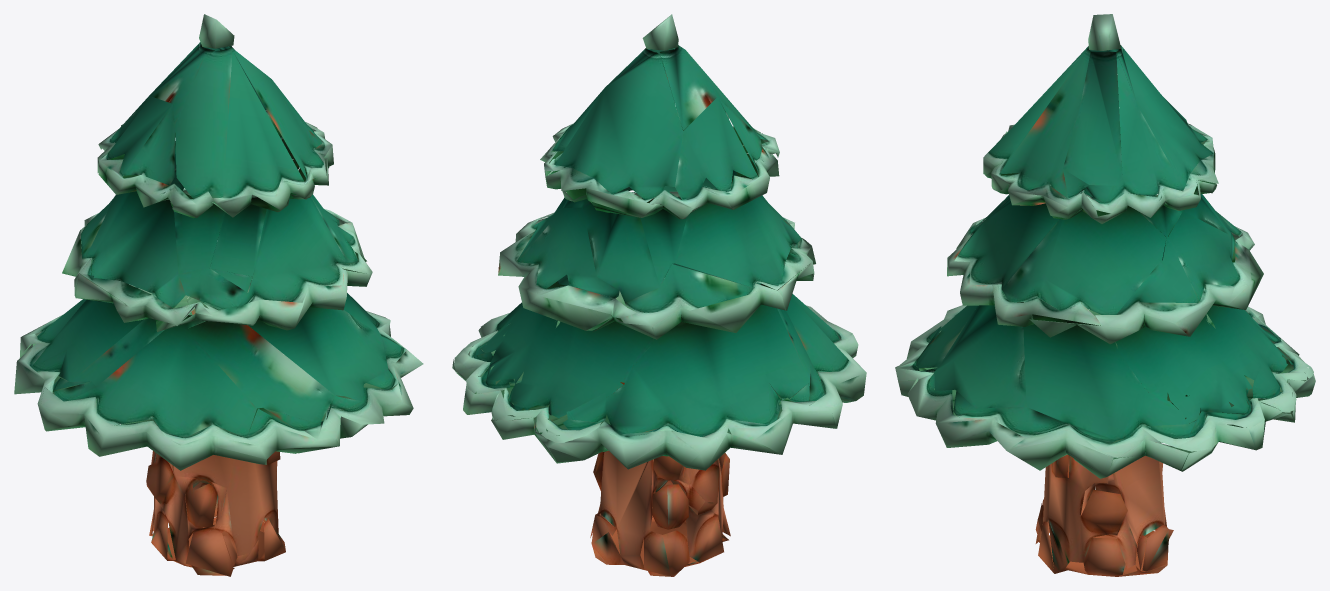
Rendered from pinus.glb.
3 views of the same model, side by side, from view 1: azimuth 30°, elevation 25°; view 2: azimuth 150°, elevation 25°; view 3: azimuth 270°, elevation 25° (orthographic).
Visible parts, largest first — view 1: Pinus.001; view 2: Pinus.001; view 3: Pinus.001.
Part boxes in pixels (bbox=[...]): Pinus.001: bbox=[14, 14, 423, 576]; Pinus.001: bbox=[452, 14, 866, 576]; Pinus.001: bbox=[895, 14, 1315, 576].
Size of the model in its own units: 2.2 by 3.18 by 2.26.
Materials: 1 (1 with a texture image).
